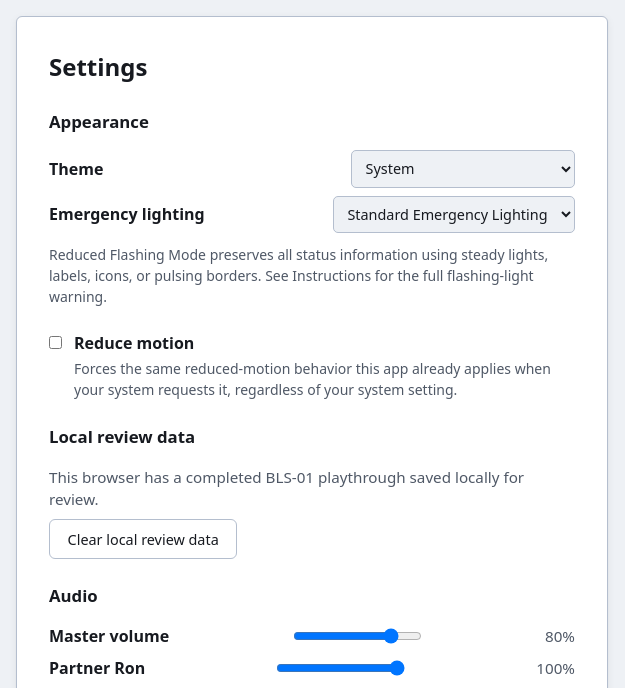
Settings › clears local review data after explicit confirmation
Click the button "Clear local review data" at (143, 539), box [49,519,237,559]
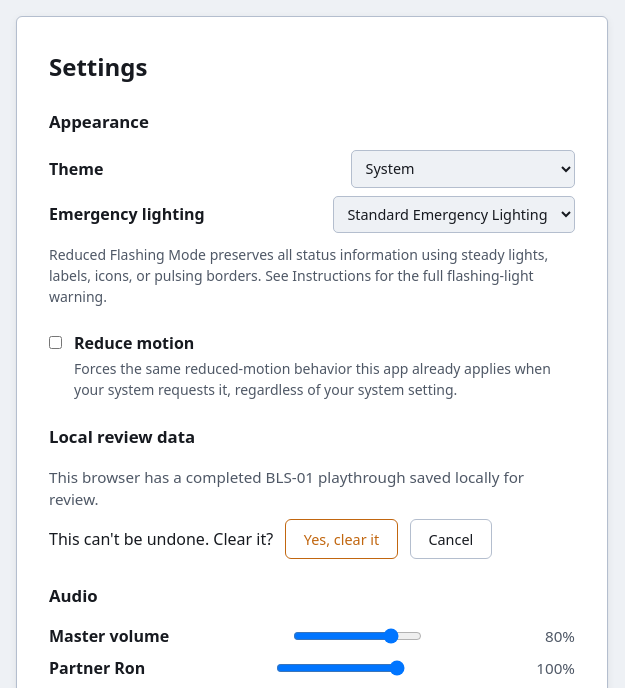
Click the button "Yes, clear it" at (342, 539), box [285,519,398,559]
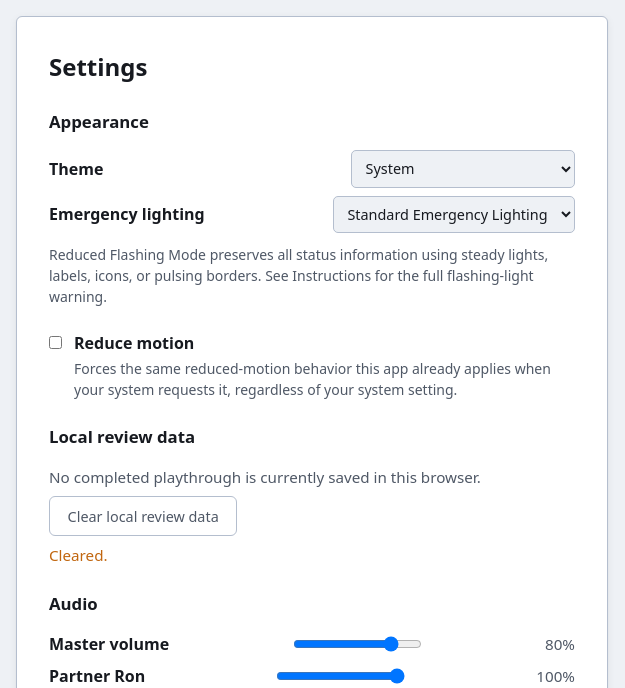
Check: the text "Cleared." is shown, box [49,546,108,566]
Check: the button "Clear local review data" is disabled, box [49,496,237,536]
